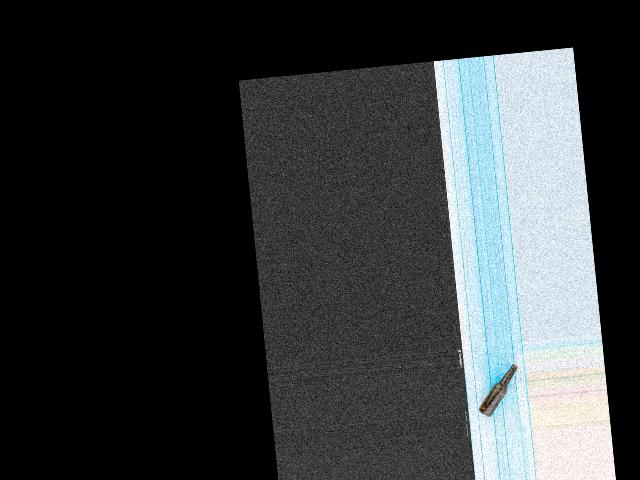beer: (473, 364, 522, 418)
